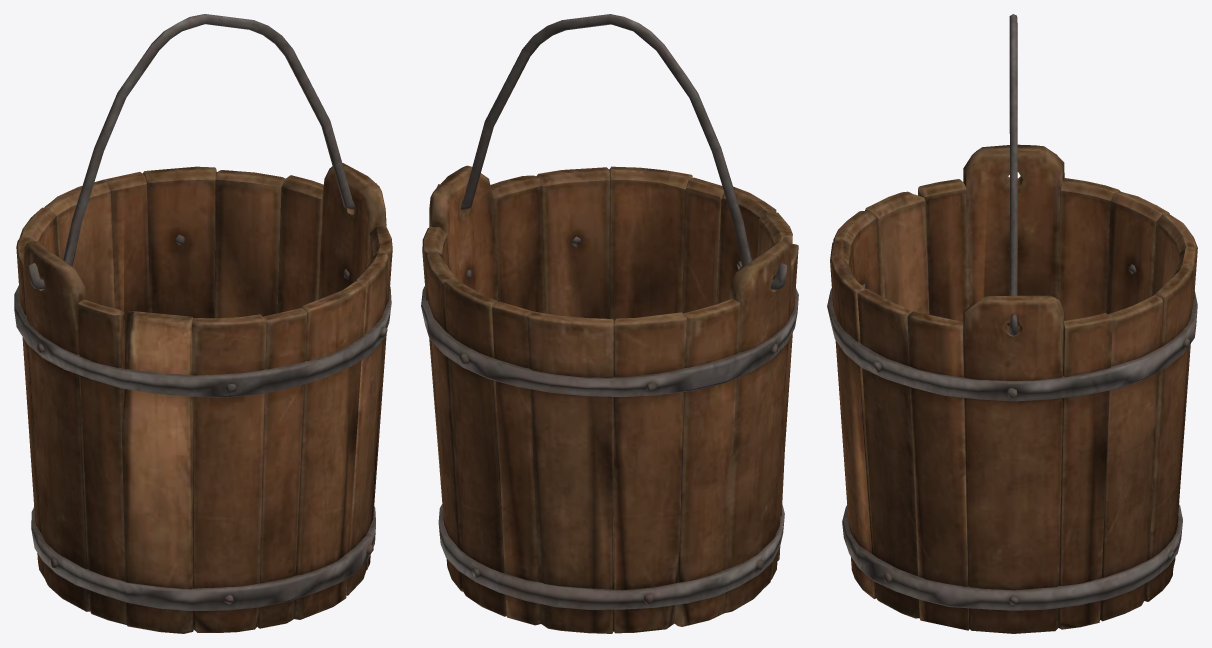
Rendered from bucket.glb.
3 views of the same model, side by side, from view 1: azimuth 30°, elevation 25°; view 2: azimuth 150°, elevation 25°; view 3: azimuth 270°, elevation 25° (orthographic).
Visible parts, largest first — view 1: wooden_bucket_01; view 2: wooden_bucket_01; view 3: wooden_bucket_01.
Boxes of the visible parts, <box> form: wooden_bucket_01: <box>14,14,392,633</box>; wooden_bucket_01: <box>421,14,798,633</box>; wooden_bucket_01: <box>827,14,1197,633</box>.
Bounding box in the file's own units: 0.3663 × 0.5499 × 0.3419.
1 material, 1 textured.
